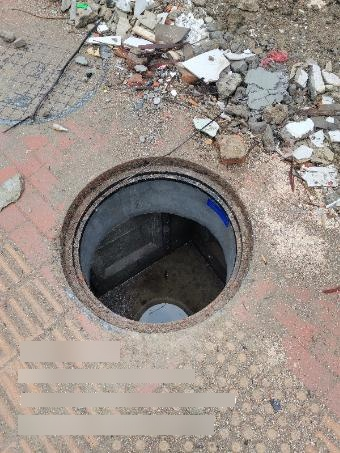lose: (61, 156, 252, 333)
